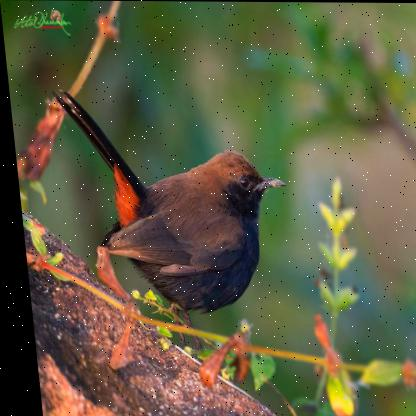Burung: (50, 87, 297, 360)
